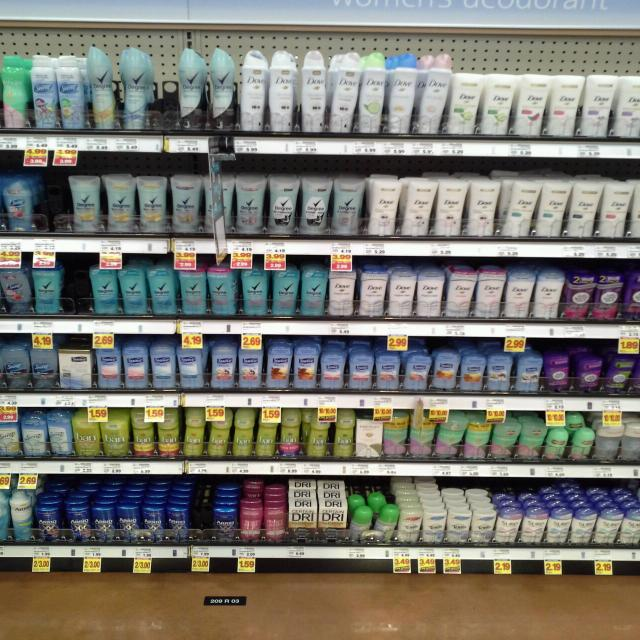unorganised: (500, 178, 541, 238), (352, 492, 397, 542), (355, 418, 384, 461)
